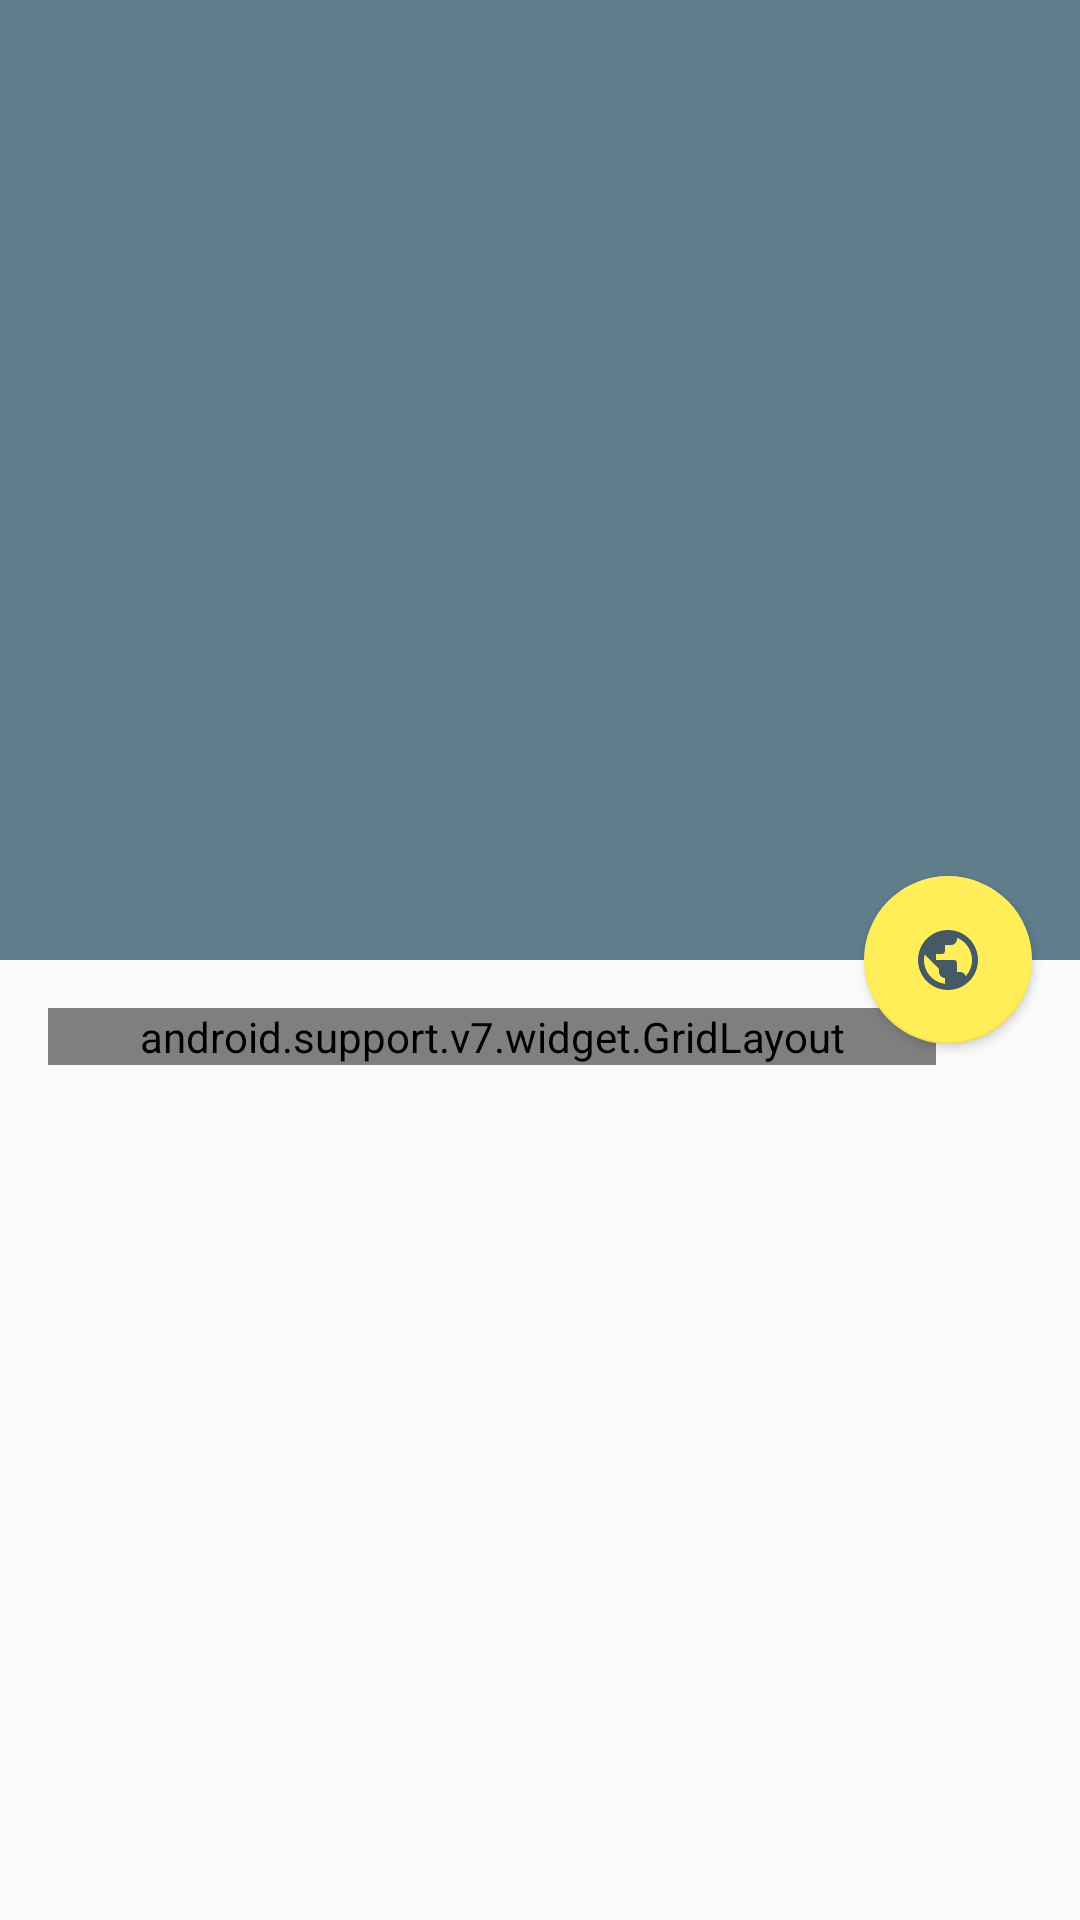

Icon click points for this 1080 × 1920 phone screenshot, format (x=x, y=y):
Открыть страницу исполнителя: (x=948, y=960)
